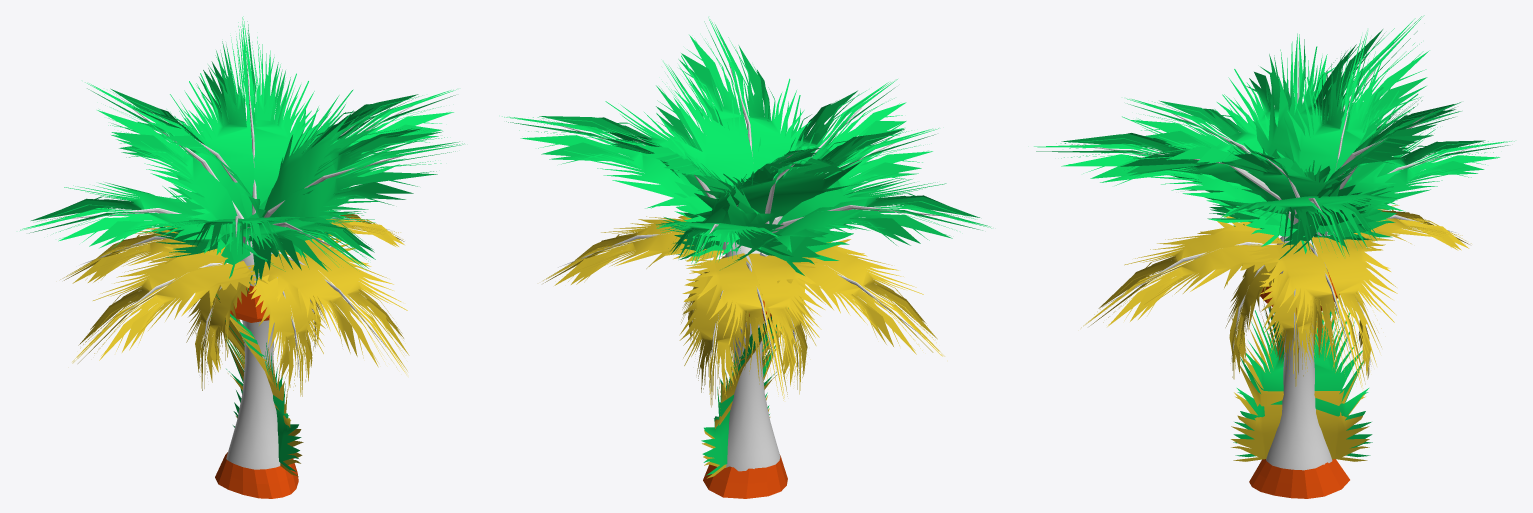
The model's file is Palmy.gltf.
The picture shows the model from 3 angles, left to right: view 1: azimuth 30°, elevation 25°; view 2: azimuth 150°, elevation 25°; view 3: azimuth 270°, elevation 25°; orthographic projection. The views are drawn at different scales.
Parts seen in each view (by area): view 1: Plane.002_Plane.004.006, Plane.002_Plane.004.005, Plane.003_Plane.007.003, Plane.003_Plane.007.007, Plane.002_Plane.004.007, Plane.002_Plane.004.010, Cylinder_Cylinder.001, Plane.002_Plane.004.009, Plane.003_Plane.007.002, Plane.002_Plane.004.004, Plane.002_Plane.004.001, Plane.003_Plane.007.004 (+10 smaller); view 2: Plane.002_Plane.004.006, Plane.003_Plane.007.004, Plane.002_Plane.004.004, Plane.002_Plane.004.008, Plane.003_Plane.007.007, Plane.002_Plane.004.010, Cylinder_Cylinder.001, Plane.002_Plane.004.007, Plane.002_Plane.004.009, Plane.003_Plane.007.005, Plane.003_Plane.007.000, Plane.002_Plane.004.001 (+8 smaller); view 3: Plane.003_Plane.007.000, Plane.002_Plane.004.007, Plane.002_Plane.004.002, Plane.003_Plane.007.003, Plane.002_Plane.004.009, Plane.003_Plane.007, Cylinder_Cylinder.001, Plane.002_Plane.004, Plane.002_Plane.004.008, Plane.002_Plane.004.003, Plane.002_Plane.004.004, Plane.002_Plane.004.006 (+8 smaller).
Boxes of the visible parts, left/top/right/bottom form: Plane.002_Plane.004.006: left=247, top=108, right=464, bottom=293; Plane.002_Plane.004.005: left=168, top=26, right=340, bottom=226; Plane.003_Plane.007.003: left=234, top=238, right=409, bottom=374; Plane.003_Plane.007.007: left=72, top=242, right=267, bottom=363; Plane.002_Plane.004.007: left=85, top=82, right=250, bottom=278; Plane.002_Plane.004.010: left=20, top=182, right=285, bottom=271; Cylinder_Cylinder.001: left=226, top=241, right=280, bottom=469; Plane.002_Plane.004.009: left=163, top=211, right=375, bottom=271; Plane.003_Plane.007.002: left=249, top=274, right=325, bottom=396; Plane.002_Plane.004.004: left=248, top=89, right=456, bottom=240; Plane.002_Plane.004.001: left=183, top=16, right=313, bottom=202; Plane.003_Plane.007.004: left=60, top=226, right=227, bottom=283; Plane.002_Plane.004.006: left=670, top=17, right=810, bottom=217; Plane.003_Plane.007.004: left=685, top=253, right=825, bottom=400; Plane.002_Plane.004.004: left=502, top=101, right=739, bottom=255; Plane.002_Plane.004.008: left=760, top=120, right=938, bottom=275; Plane.003_Plane.007.007: left=777, top=239, right=944, bottom=356; Plane.002_Plane.004.010: left=725, top=178, right=991, bottom=267; Cylinder_Cylinder.001: left=724, top=245, right=780, bottom=471; Plane.002_Plane.004.007: left=673, top=149, right=861, bottom=254; Plane.002_Plane.004.009: left=758, top=79, right=906, bottom=260; Plane.003_Plane.007.005: left=679, top=270, right=762, bottom=407; Plane.003_Plane.007.000: left=543, top=216, right=723, bottom=285; Plane.002_Plane.004.001: left=607, top=128, right=774, bottom=255; Plane.003_Plane.007.000: left=1246, top=231, right=1397, bottom=388; Plane.002_Plane.004.007: left=1253, top=15, right=1429, bottom=242; Plane.002_Plane.004.002: left=1277, top=30, right=1402, bottom=237; Plane.003_Plane.007.003: left=1081, top=215, right=1284, bottom=327; Plane.002_Plane.004.009: left=1034, top=116, right=1306, bottom=253; Plane.003_Plane.007: left=1231, top=301, right=1369, bottom=461; Cylinder_Cylinder.001: left=1266, top=236, right=1332, bottom=470; Plane.002_Plane.004: left=1233, top=300, right=1372, bottom=457; Plane.002_Plane.004.008: left=1126, top=94, right=1279, bottom=246; Plane.002_Plane.004.003: left=1320, top=129, right=1514, bottom=247; Plane.002_Plane.004.004: left=1207, top=187, right=1399, bottom=256; Plane.002_Plane.004.006: left=1120, top=141, right=1370, bottom=226.
Bounding box in the file's own units: 20.61 × 16.48 × 17.78.
